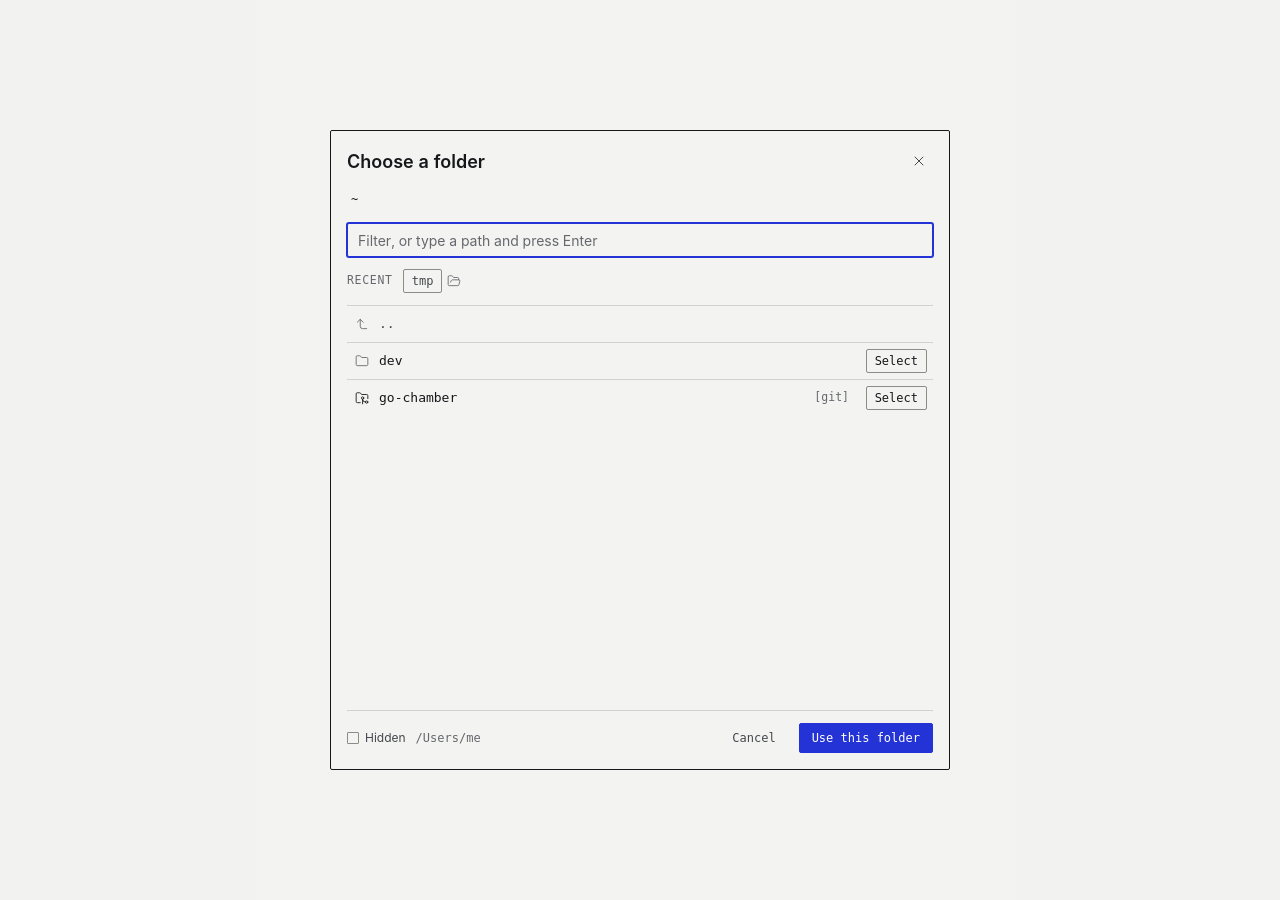
FolderPicker › reads a path outside home as / tmp, with one slash after the root
The image size is (1280, 900).
Check: the button "dev" is shown, box [347,343,933,379]
Step 1. Click the button named "Browse inside /tmp" → x=454, y=281, box [442,269,466,293]
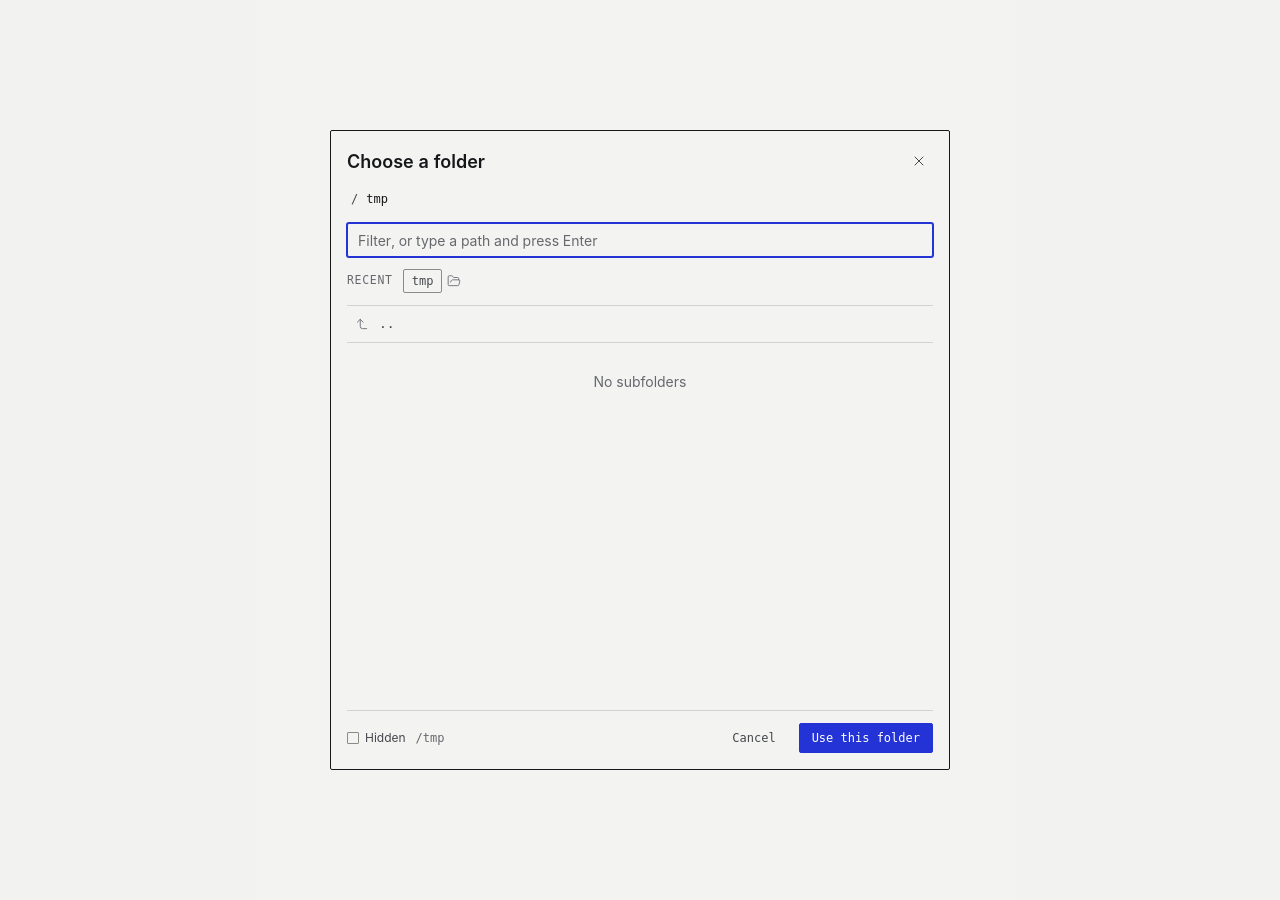
Check: the navigation bar named "Folder path" reads "/ tmp", box [347,187,392,211]
